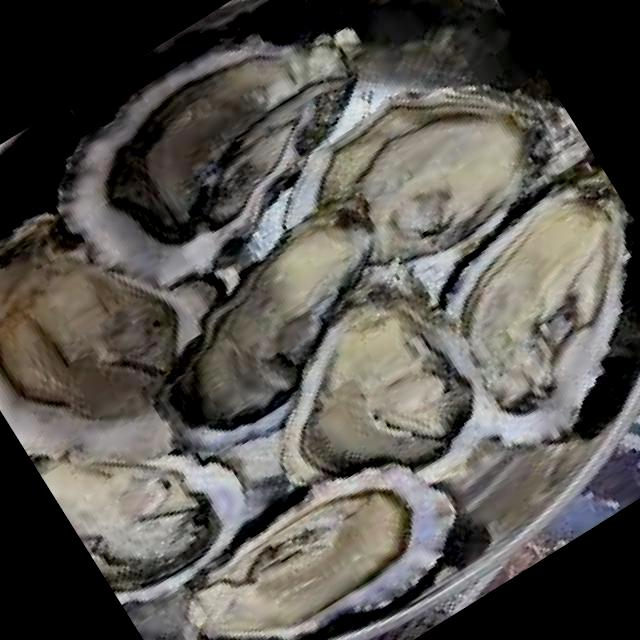Oyster-Open: (59, 32, 362, 289), (153, 208, 374, 437), (175, 474, 455, 640), (297, 89, 545, 265), (456, 177, 626, 415), (279, 284, 475, 488), (0, 216, 179, 424), (42, 456, 249, 604)
